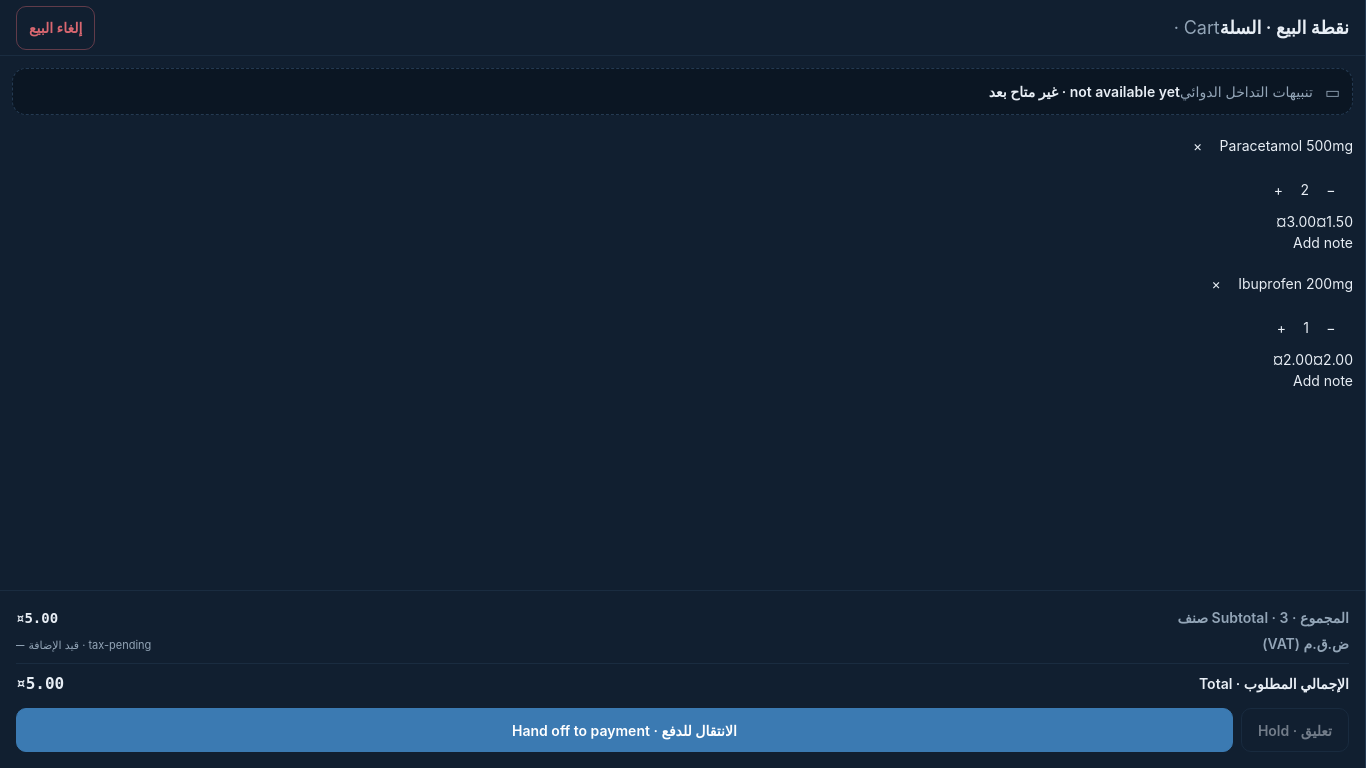
Test case: T052 — CartPane bridge: multi-line non-target branches › increment on line-1 leaves line-2 unchanged (covers non-target map arm)
Click the button with test id "qty-increment" below "Paracetamol 500mg".
click(1278, 189)  # box [1256,167,1300,211]
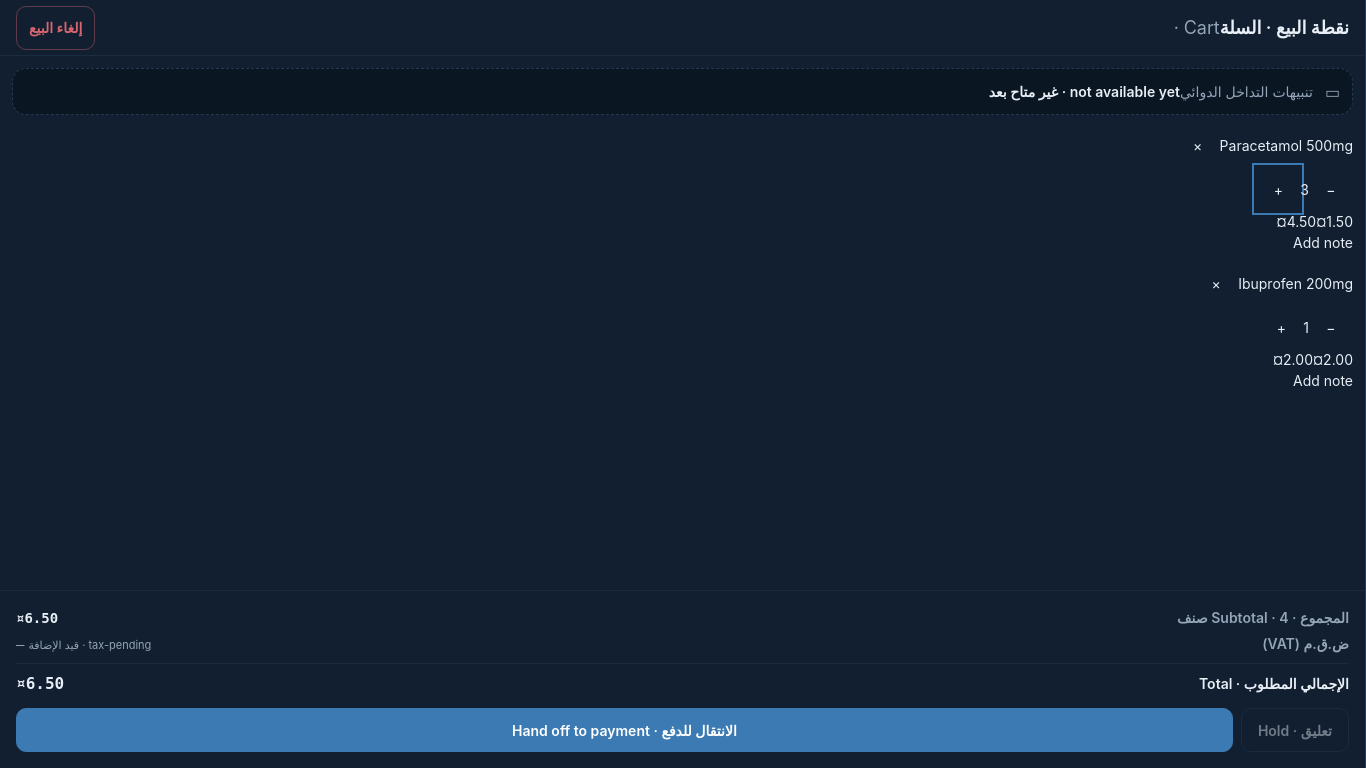
Expected: the text with test id "qty-display" reads "1", [1303,318,1309,336]
Expected: the text with test id "qty-display" reads "3", [1300,180,1309,198]
